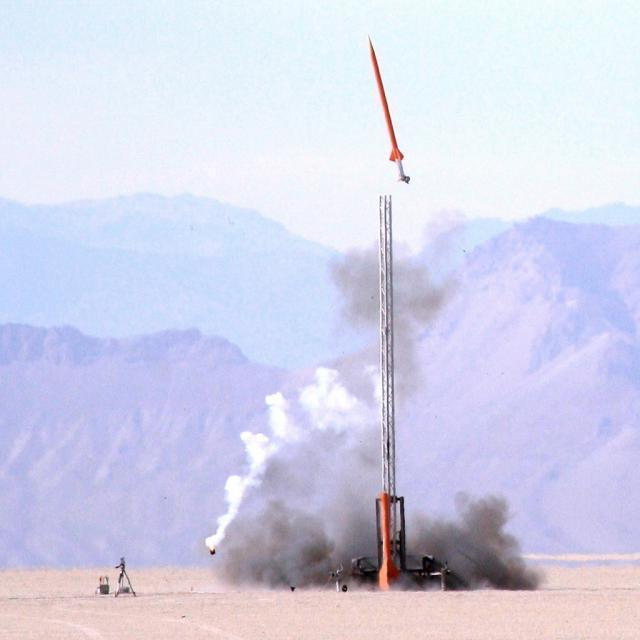missile: (362, 34, 412, 183)
